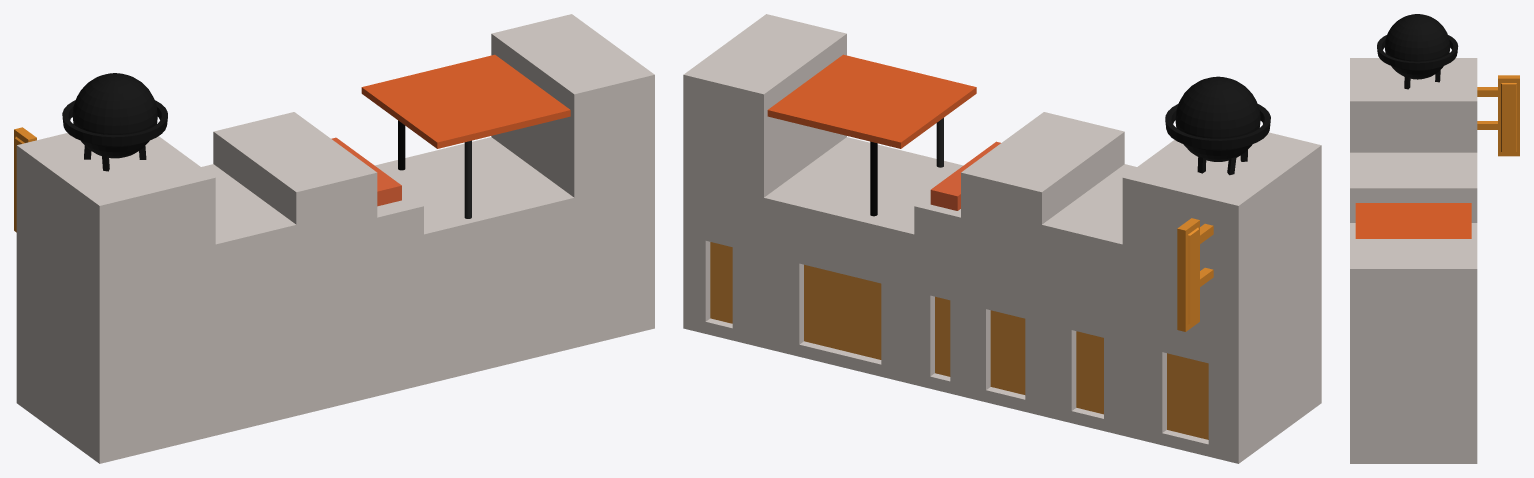
Rendered from Street_Long.fbx.
The picture shows the model from 3 angles, left to right: view 1: azimuth 30°, elevation 25°; view 2: azimuth 150°, elevation 25°; view 3: azimuth 270°, elevation 25°; orthographic projection. The views are drawn at different scales.
Parts seen in each view (by area): view 1: Cube.004, Cube.005, Sphere, Cube.006; view 2: Cube.004, Cube.005, Sphere, Cube.007, Cube.006; view 3: Cube.004, Cube.005, Sphere, Cube.007.
Boxes of the visible parts, bbox=[...] form: Cube.004: bbox=[16, 14, 654, 463]; Cube.005: bbox=[361, 54, 570, 148]; Sphere: bbox=[62, 73, 167, 171]; Cube.006: bbox=[331, 137, 401, 206]; Cube.004: bbox=[683, 14, 1321, 463]; Cube.005: bbox=[767, 54, 976, 148]; Sphere: bbox=[1165, 76, 1270, 175]; Cube.007: bbox=[1177, 218, 1213, 331]; Cube.006: bbox=[930, 141, 1000, 210]; Cube.004: bbox=[1350, 58, 1477, 463]; Cube.005: bbox=[1355, 203, 1471, 238]; Sphere: bbox=[1377, 14, 1458, 89]; Cube.007: bbox=[1477, 75, 1519, 156].
Size of the model in its own units: 2786 by 1631 by 962.
